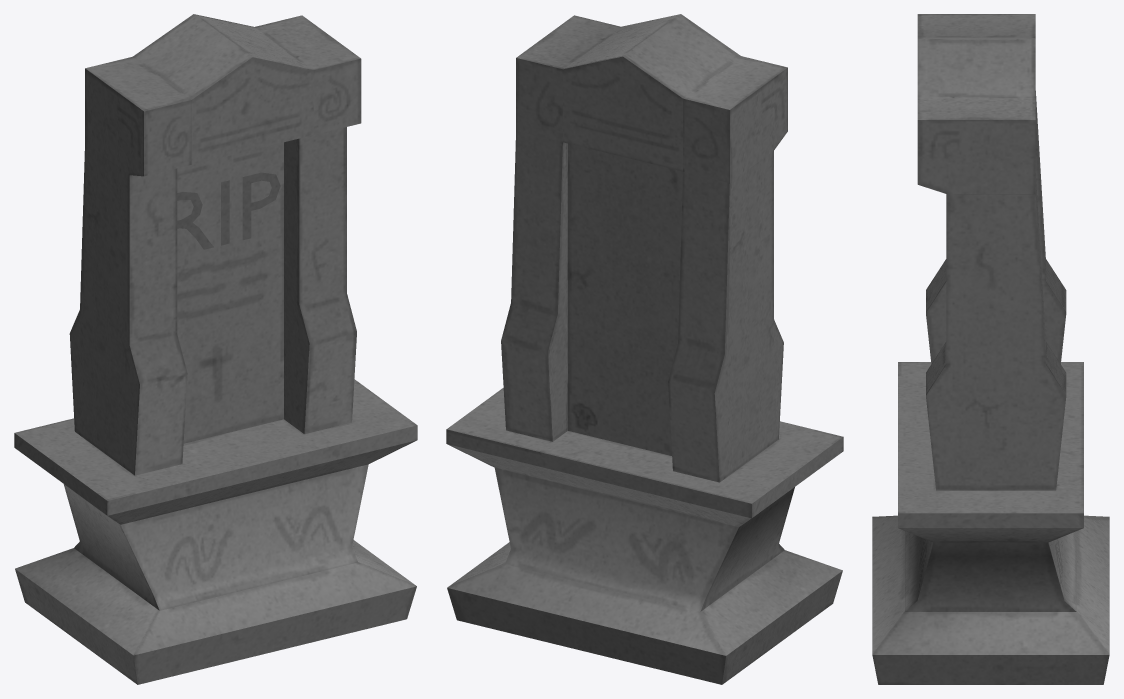
Rendered from Grave-stone.fbx.
3 views of the same model, side by side, from view 1: azimuth 30°, elevation 25°; view 2: azimuth 150°, elevation 25°; view 3: azimuth 270°, elevation 25° (orthographic).
Parts seen in each view (by area): view 1: Grave_01; view 2: Grave_01; view 3: Grave_01.
Part boxes in pixels (x1,y1,x2,y2): Grave_01: (14,14,417,684); Grave_01: (446,14,843,684); Grave_01: (872,14,1109,684).
Bounding box in the file's own units: 87.5 × 157 × 58.
